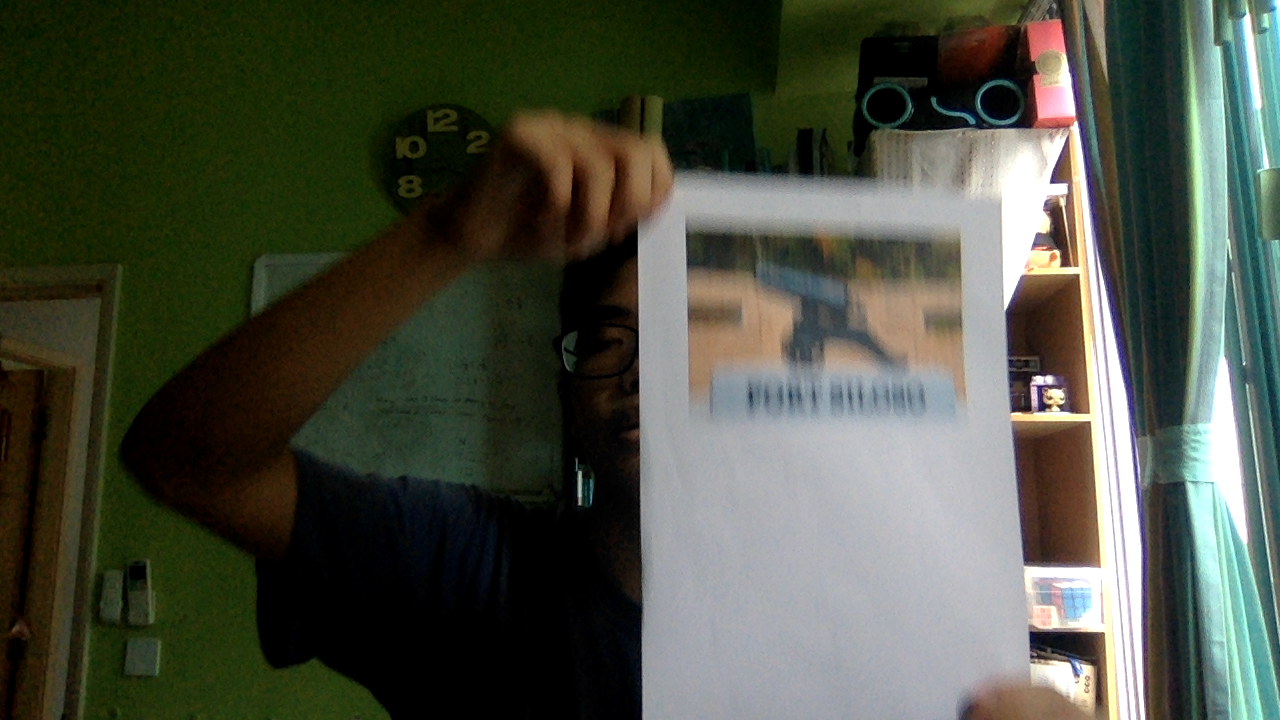siloso: (683, 211, 972, 429)
